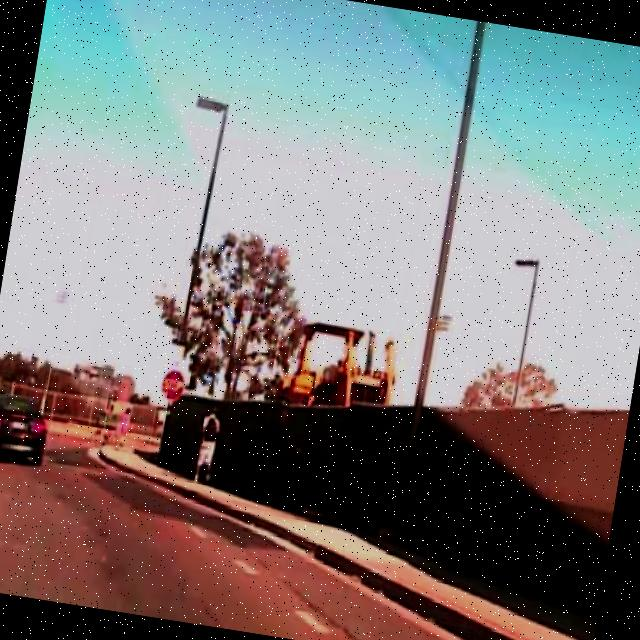Stop: (158, 368, 186, 404)
